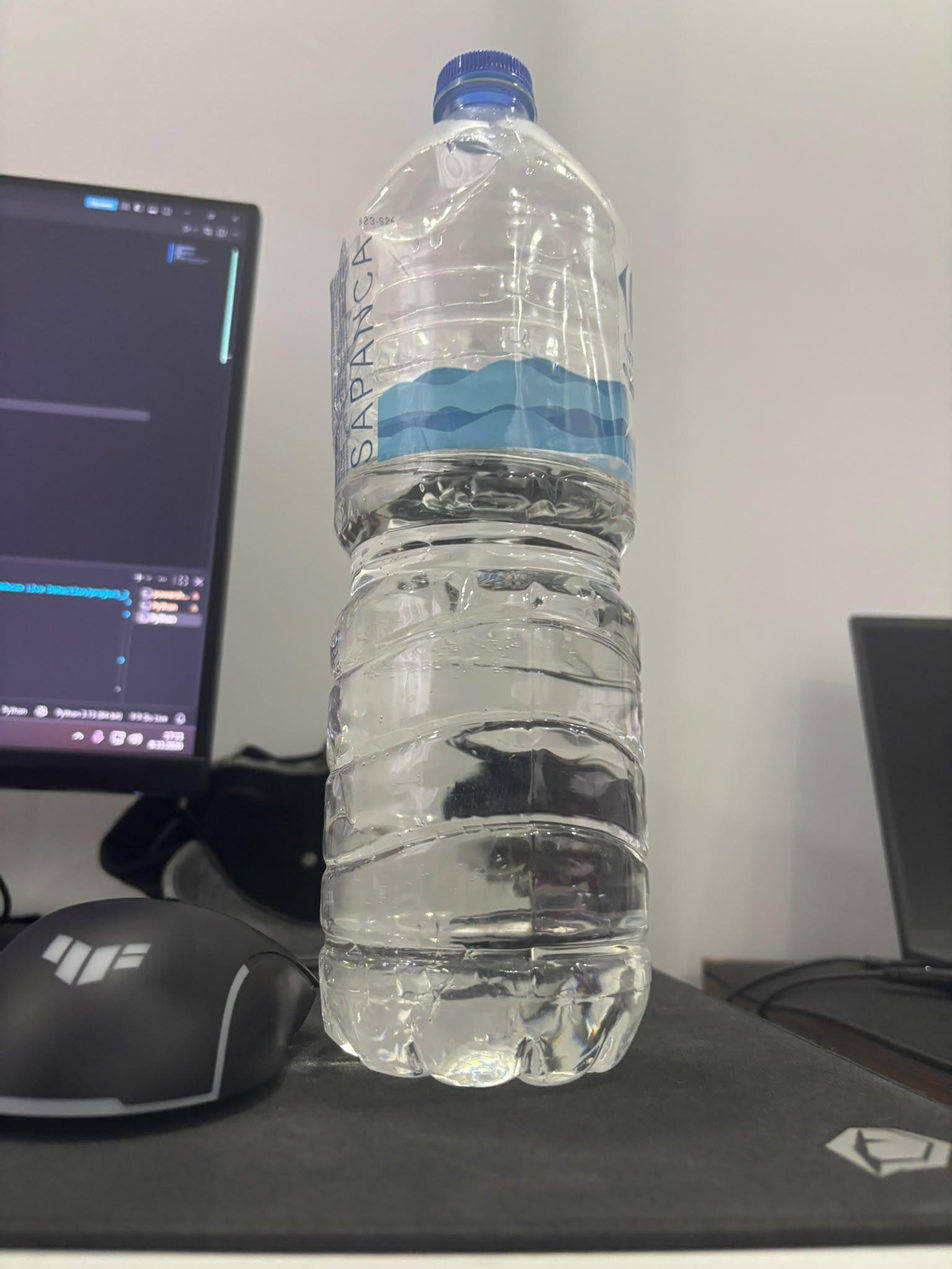cable: (724, 955, 952, 1072)
mouse: (0, 895, 319, 1123)
water bottel: (319, 50, 654, 1089)
